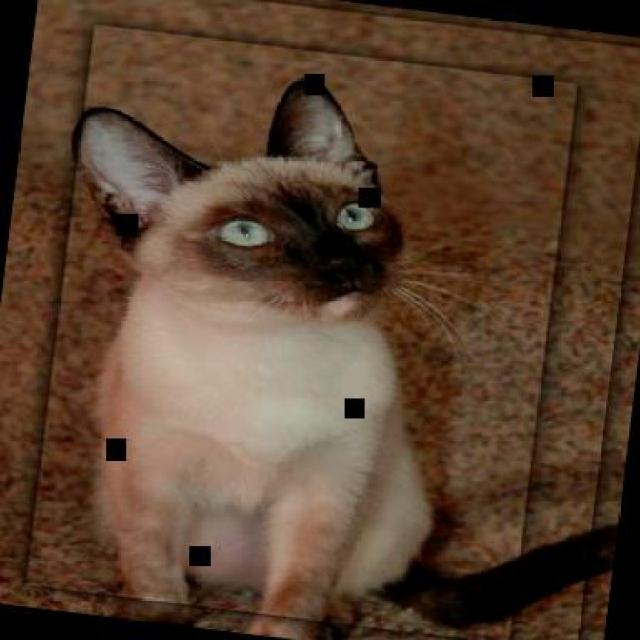cat: (7, 44, 638, 638)
